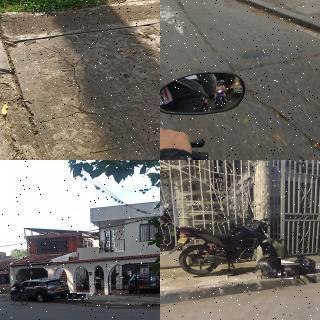Garbage: (257, 256, 281, 279), (294, 257, 319, 275), (281, 263, 300, 279), (68, 293, 78, 300), (77, 294, 86, 300)
